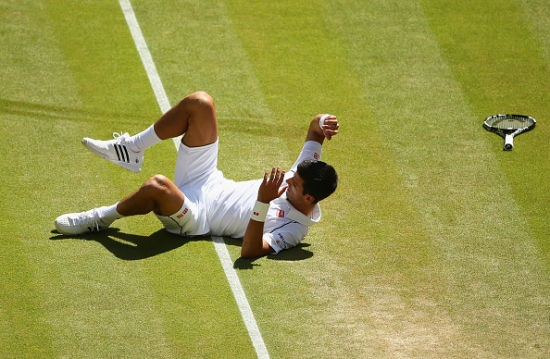falling: (43, 80, 348, 268)
